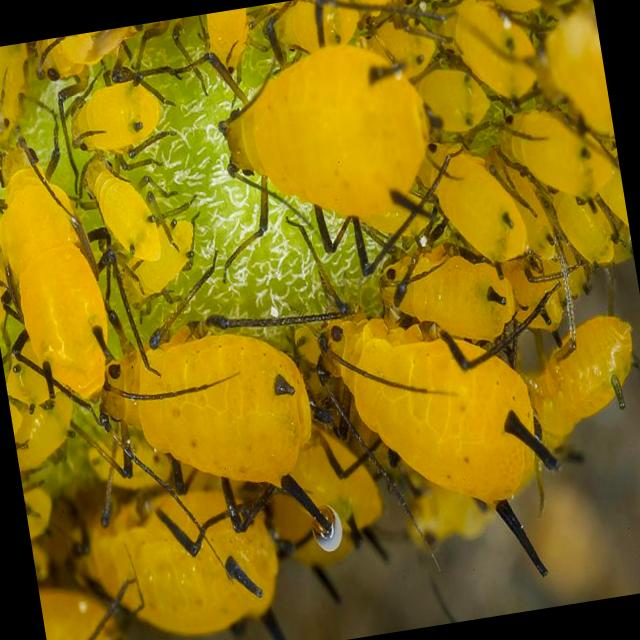Aphids: (291, 234, 585, 567), (197, 0, 483, 265), (69, 270, 350, 522), (0, 45, 169, 436), (357, 218, 536, 372), (54, 64, 194, 192), (67, 134, 175, 286)
